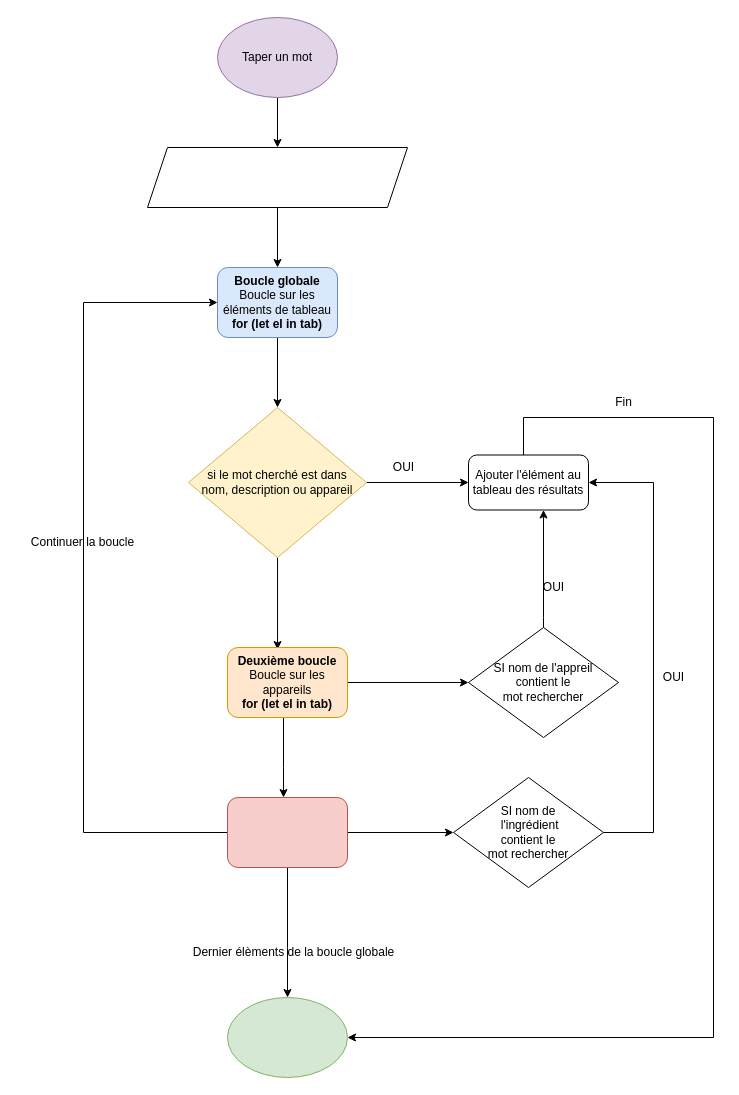
Image size: 739x1095. Some labels were removed from this diagram. Here are the shapes that lost their labels. From the top down, the box of each, then its label:
(146, 146, 408, 208): prendre en argument le tableau des receipes et le mot cherché
(226, 796, 348, 868): troisième boucle Boucle sur les ingrédients for (let el in tab)
(226, 996, 348, 1078): Fin rendre le tableau des résultats
